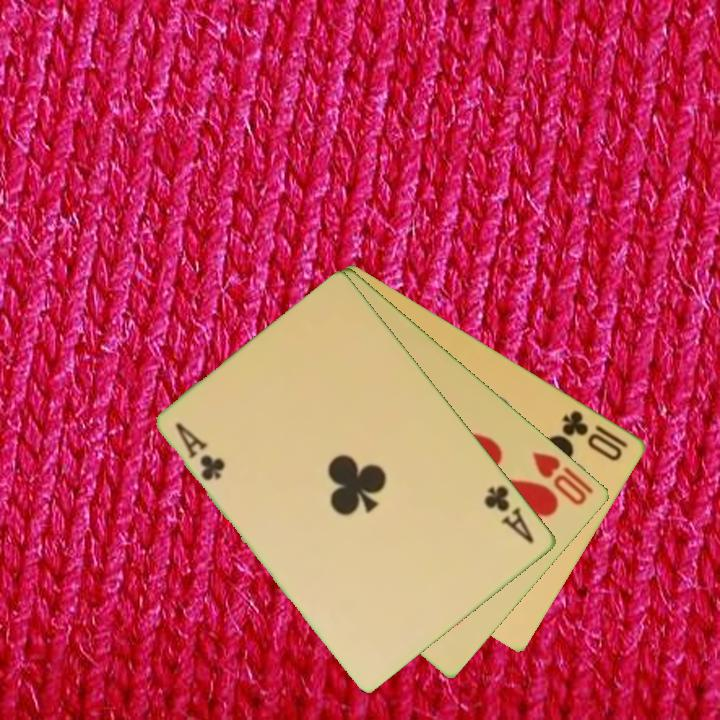10c: (558, 406, 632, 464)
10h: (529, 448, 598, 508)
Ac: (172, 418, 229, 484), (481, 482, 538, 547)
